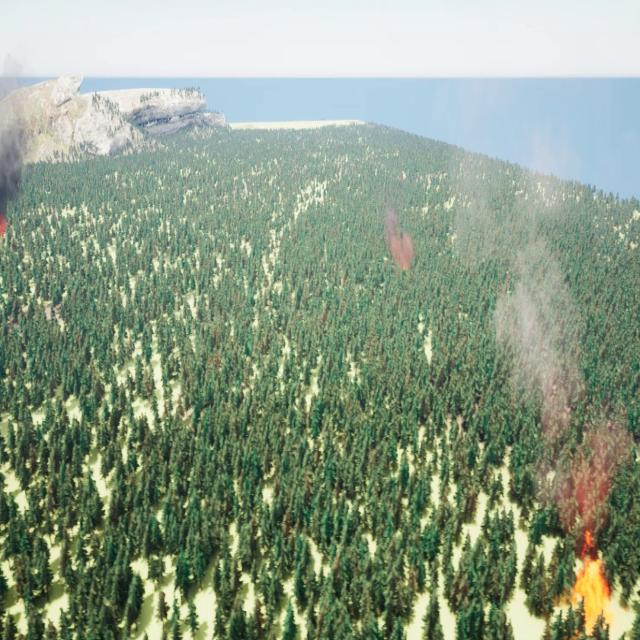fire: (562, 550, 614, 623)
smoke: (454, 134, 628, 532), (0, 74, 29, 210), (386, 213, 414, 278)
